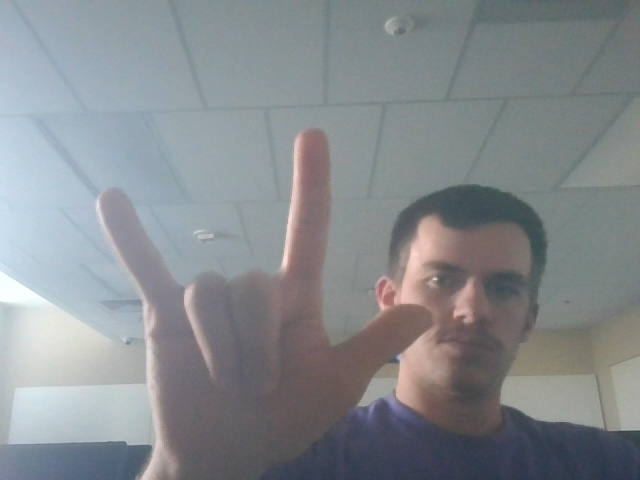iloveyou: (83, 106, 440, 478)
